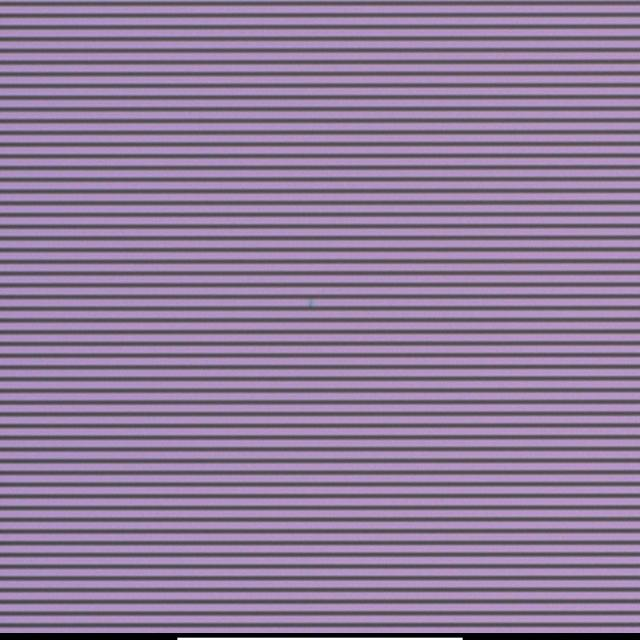nonvisual: (306, 296, 317, 310)
